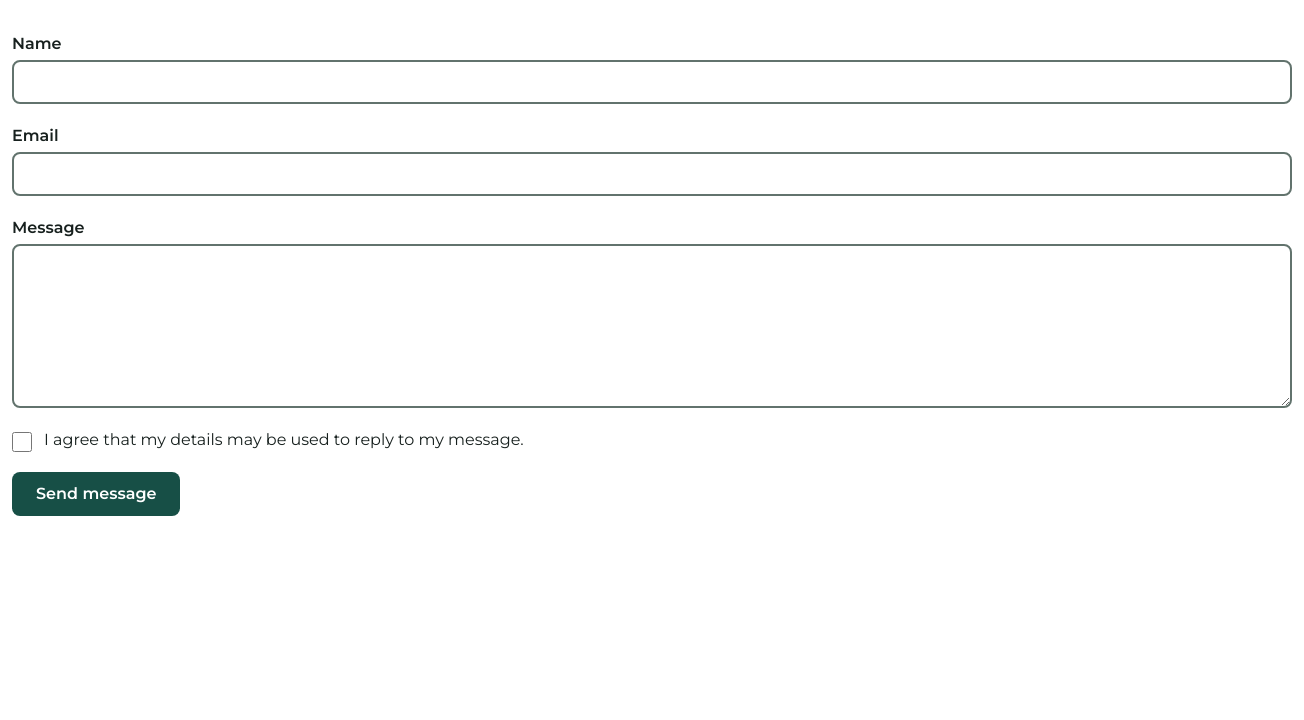
Test: ContactForm › sends a valid message, announces success and clears the form
Type "A Visitor" into the field labelled "Name" at {"x": 652, "y": 82}, box x1=12 y1=60 x2=1292 y2=104
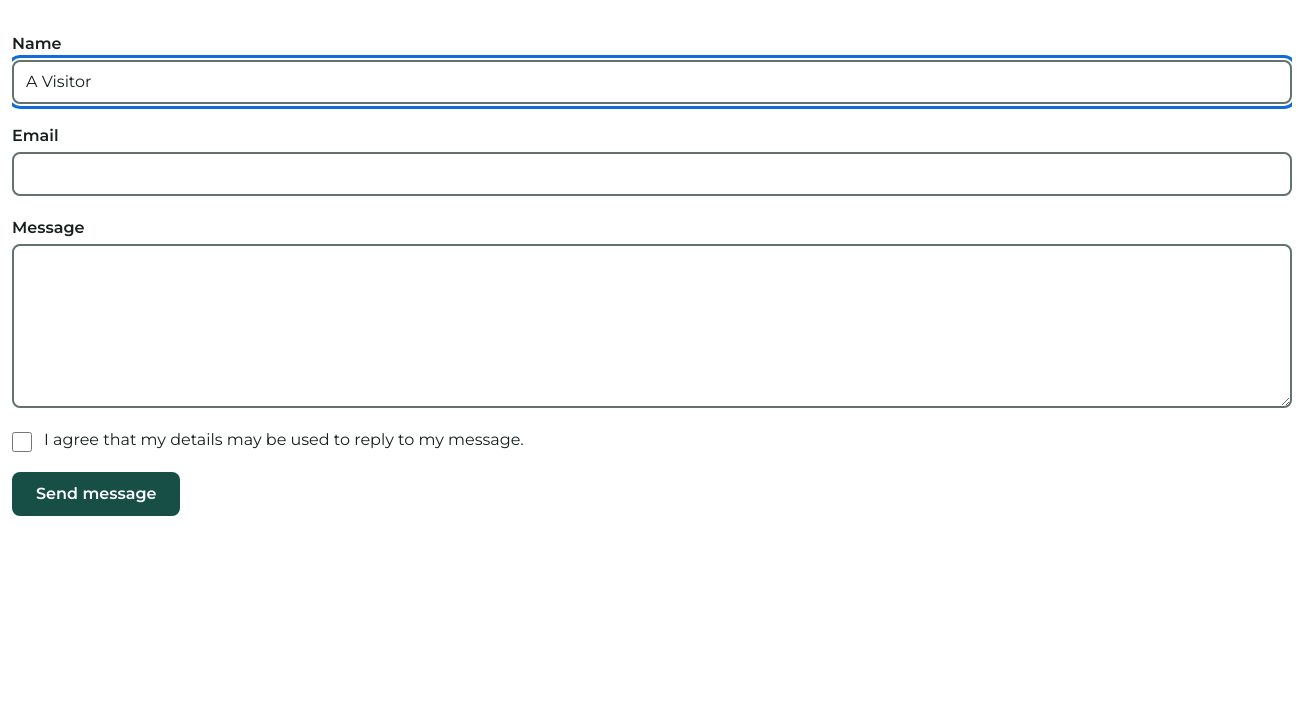
Type "visitor@example.com" into the field labelled "Email" at {"x": 652, "y": 174}, box x1=12 y1=152 x2=1292 y2=196
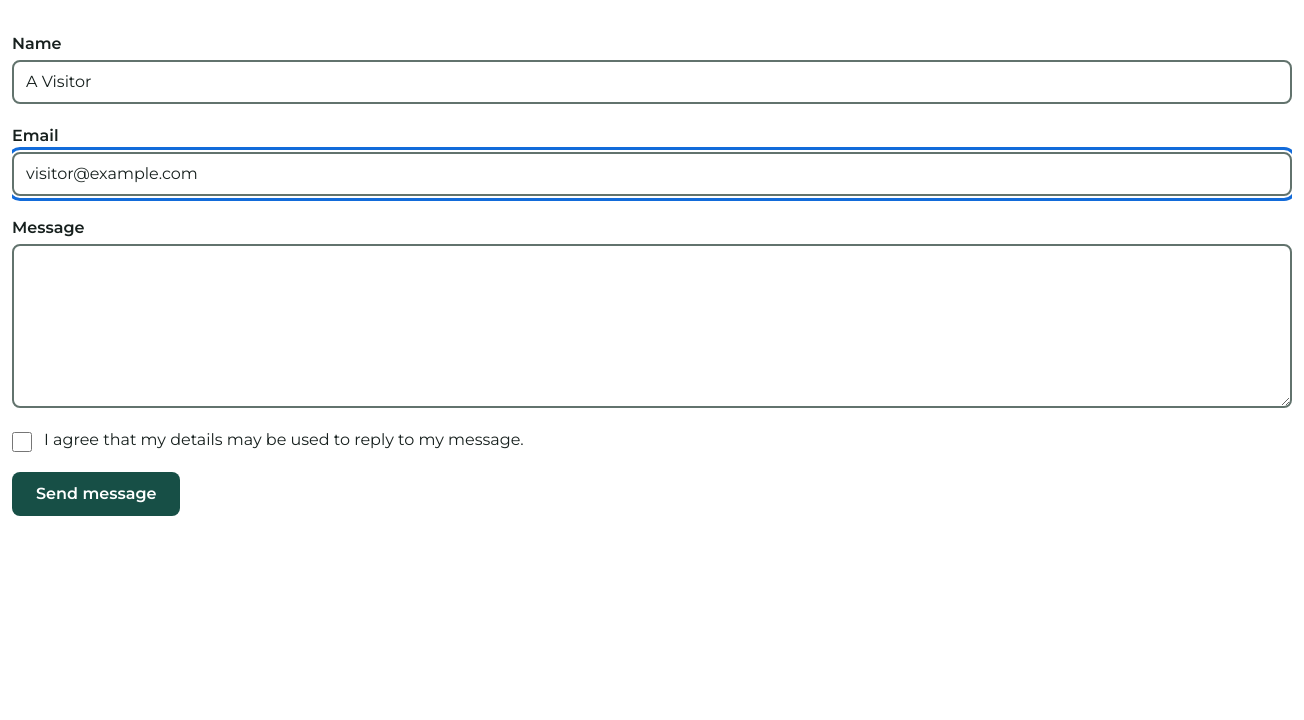
Type "Please contact me." into the text box labelled "Message" at {"x": 652, "y": 326}, box x1=12 y1=244 x2=1292 y2=408
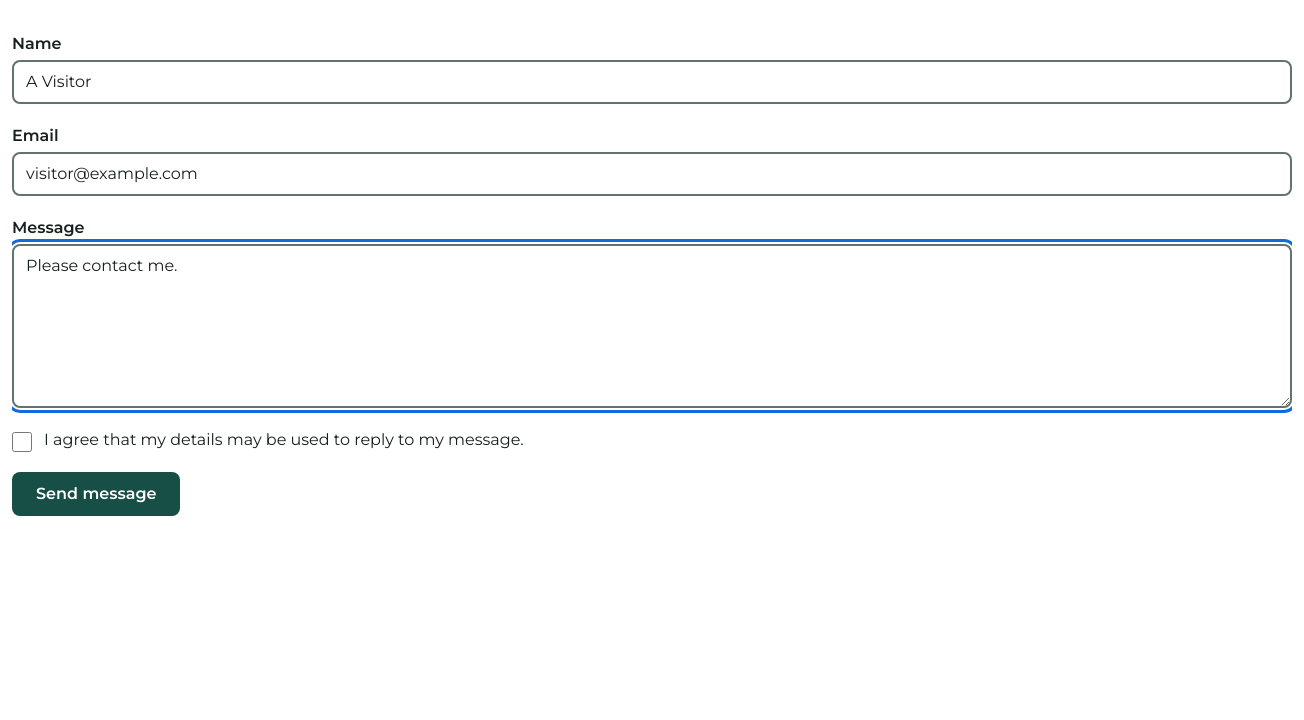
Click the checkbox labelled "I agree that my details may be used to reply to my message." at {"x": 22, "y": 442}, box x1=12 y1=432 x2=32 y2=452
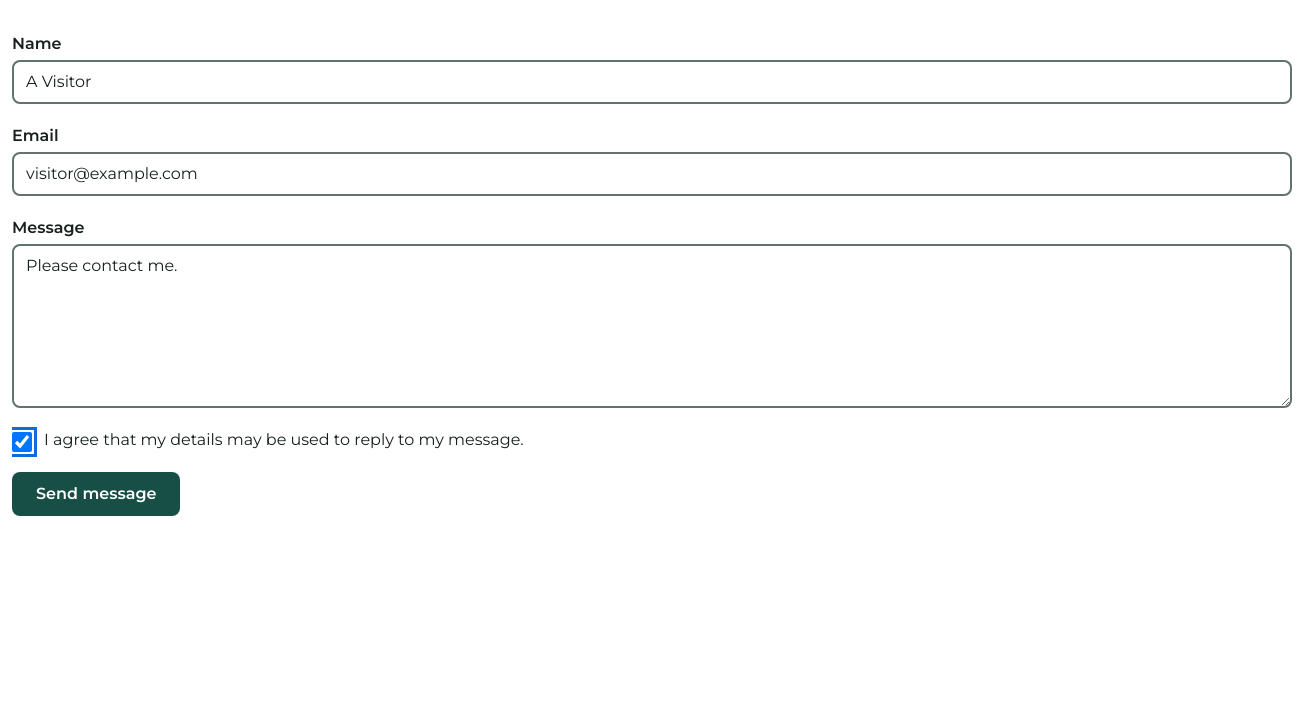
Click the button "Send message" at {"x": 96, "y": 494}, box x1=12 y1=472 x2=180 y2=516
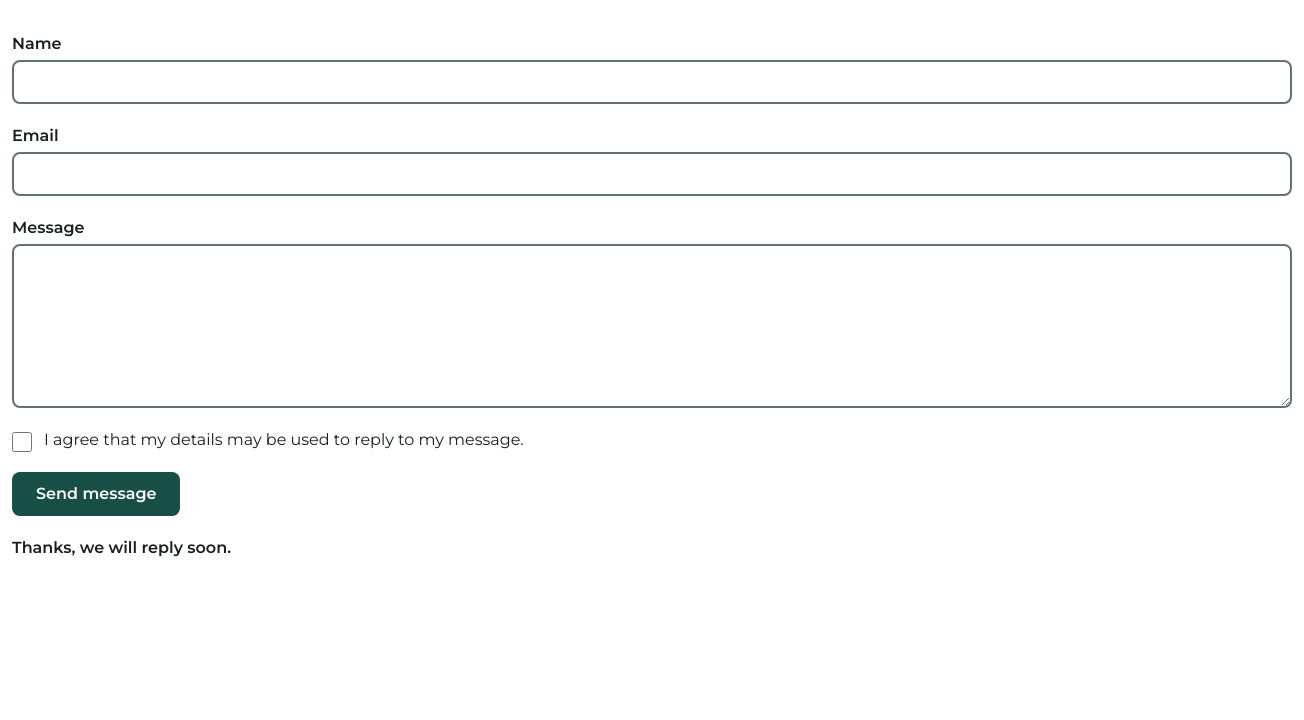
Check: the message reads "Thanks, we will reply soon.", box x1=12 y1=538 x2=231 y2=557
Check: the field labelled "Name" is empty, box x1=12 y1=60 x2=1292 y2=104
